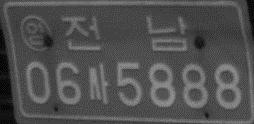0: (24, 60, 52, 105)
5: (116, 62, 143, 108)
6: (54, 61, 82, 106)
8: (213, 63, 242, 110), (147, 62, 176, 108), (180, 63, 209, 109)
사: (86, 62, 112, 105)
영: (19, 14, 53, 52)
전남_D: (61, 15, 187, 53)
